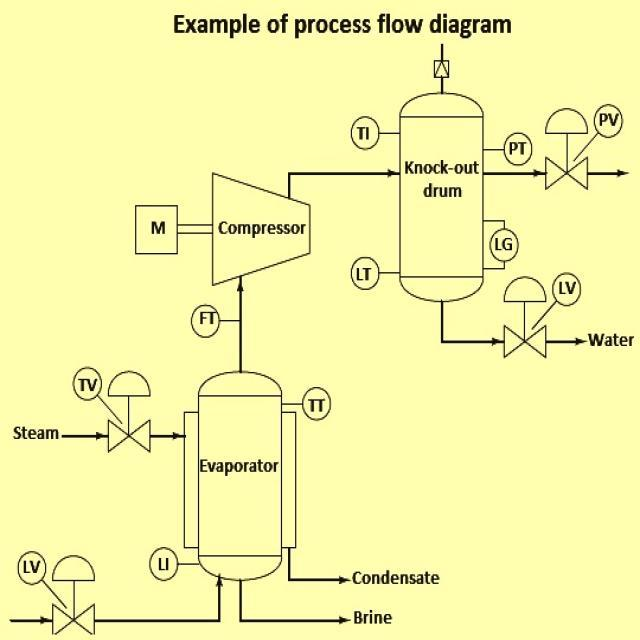Pneumatic-Diaphragm Gate Valve: (102, 362, 154, 462), (542, 106, 592, 195), (499, 275, 549, 362), (52, 552, 99, 638)
